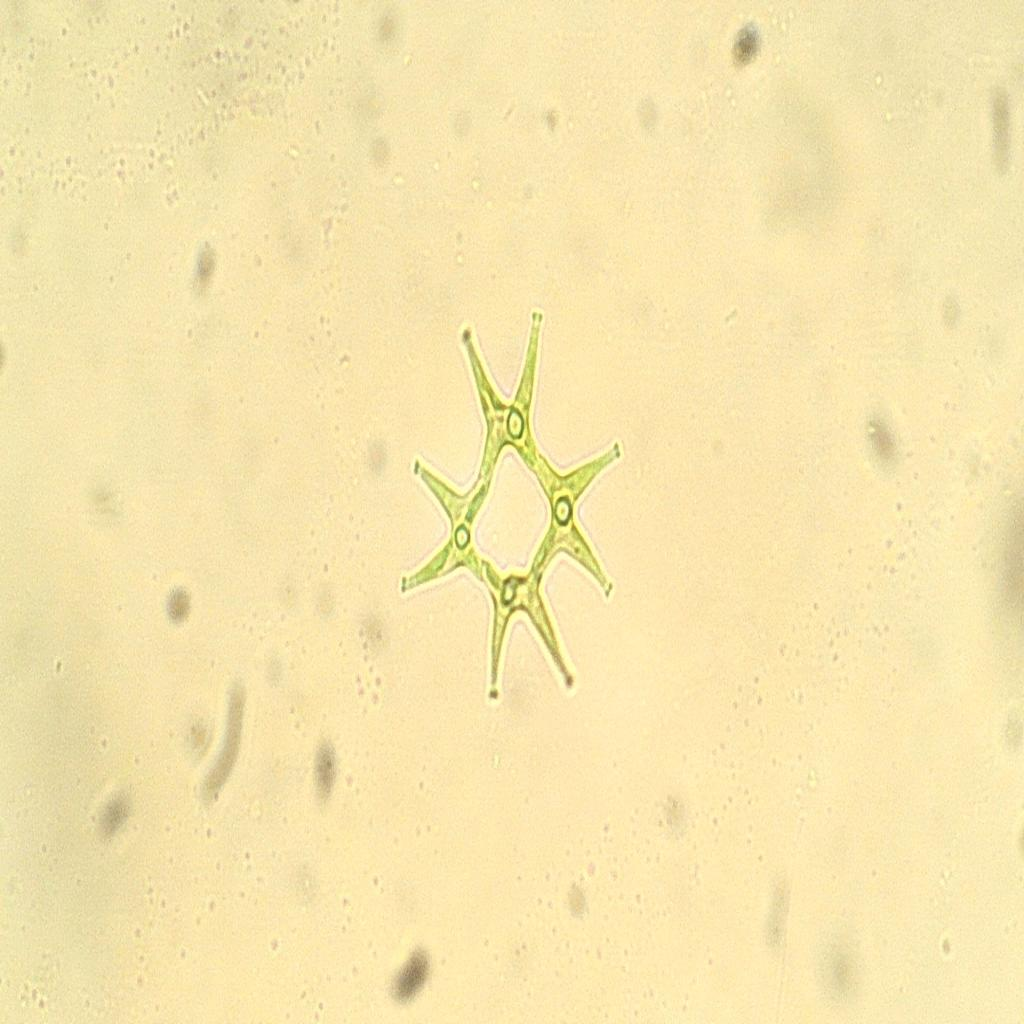Pediastrum_75O: (392, 273, 628, 752)
